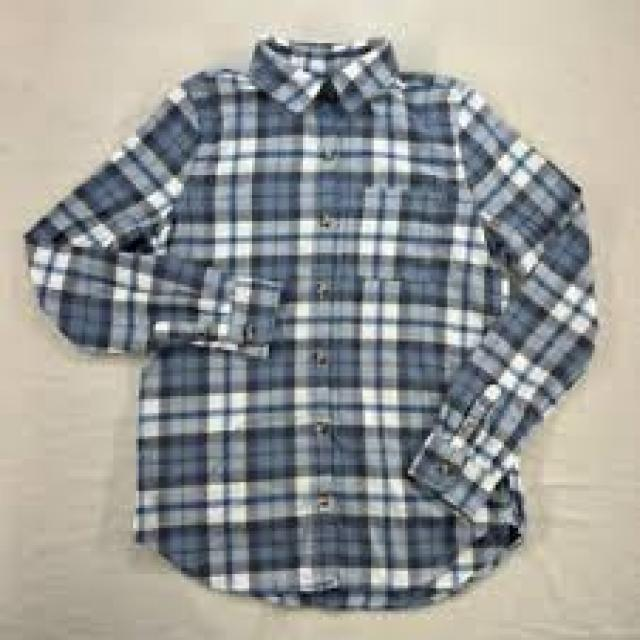plaid: (14, 36, 601, 612)
